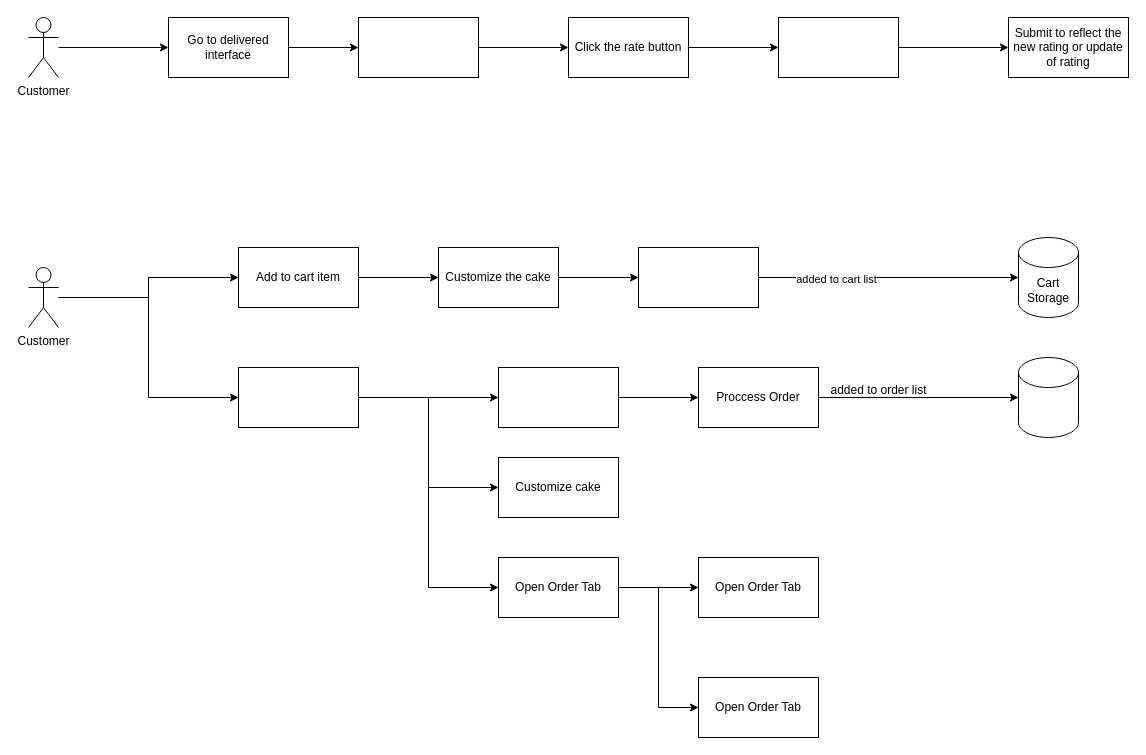
Image size: 1146x755. Some labels were removed from this diagram. Here are the shapes that lost their labels. From the top down, the centre of each, then its label:
At (x=418, y=47): "Find an order with fully paid status".
At (x=838, y=47): "Create a new Rating instance or get the associated one".
At (x=698, y=277): "Submit".
At (x=298, y=397): "Open Cart Interface".
At (x=558, y=397): "Check and Uncheck cart cake".
At (x=1048, y=397): "Order Storage".
